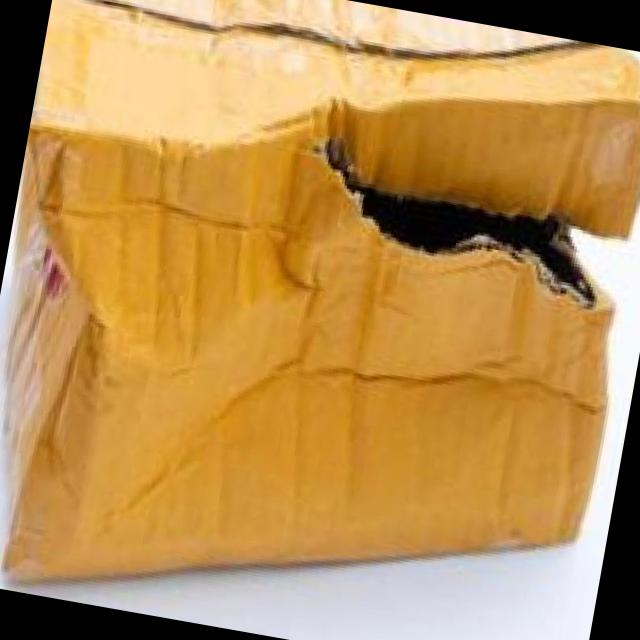box: (0, 0, 640, 581)
crushed: (69, 172, 293, 365), (49, 0, 595, 72), (306, 351, 614, 423), (31, 320, 103, 516)
opened: (316, 126, 640, 322)
